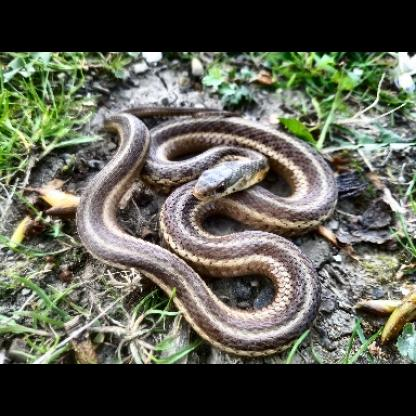Snake: (77, 101, 340, 358)
